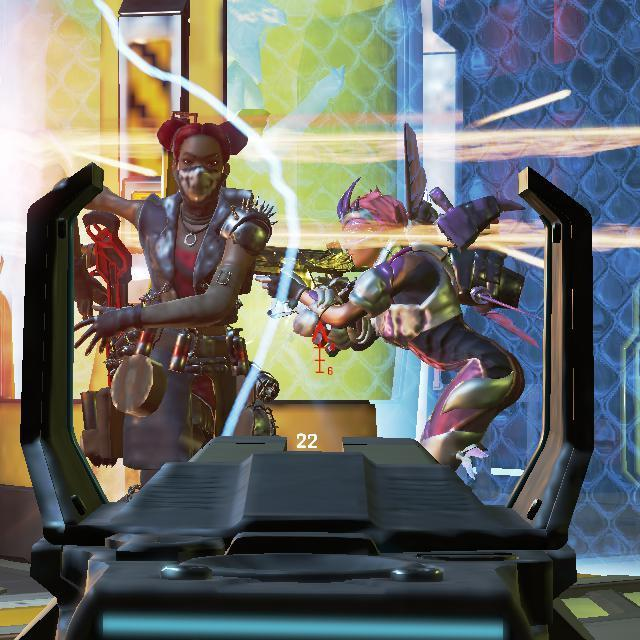avatar: (77, 110, 278, 471), (333, 185, 526, 438)
